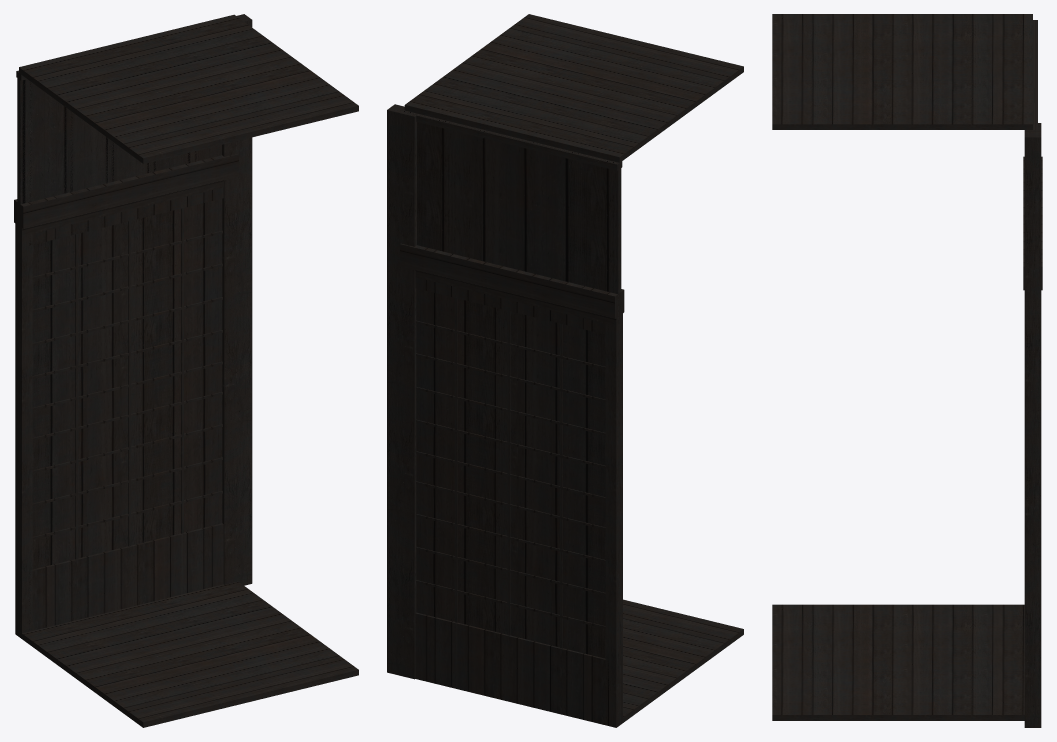
Rendered from module_01.fbx.
The picture shows the model from 3 angles, left to right: view 1: azimuth 30°, elevation 25°; view 2: azimuth 150°, elevation 25°; view 3: azimuth 270°, elevation 25°; orthographic projection. The views are drawn at different scales.
Visible parts, largest first — view 1: syoujido, tennjou, yuka3, kabe, hasira, sikiri, syoujido2; view 2: syoujido2, kabe, tennjou, hasira, syoujido, sikiri, yuka3; view 3: tennjou, yuka3, hasira, kabe.
Boxes of the visible parts, left/top/right/bottom form: syoujido: left=17, top=73, right=223, bottom=638; tennjou: left=19, top=14, right=358, bottom=163; yuka3: left=20, top=581, right=358, bottom=727; kabe: left=14, top=70, right=238, bottom=638; hasira: left=222, top=14, right=252, bottom=585; sikiri: left=17, top=74, right=221, bottom=228; syoujido2: left=15, top=229, right=18, bottom=634; syoujido2: left=415, top=277, right=619, bottom=727; kabe: left=400, top=110, right=624, bottom=726; tennjou: left=404, top=14, right=743, bottom=162; hasira: left=387, top=104, right=416, bottom=679; syoujido: left=417, top=122, right=622, bottom=723; sikiri: left=417, top=122, right=621, bottom=321; yuka3: left=623, top=599, right=743, bottom=722; tennjou: left=772, top=14, right=1032, bottom=129; yuka3: left=772, top=604, right=1024, bottom=720; hasira: left=1024, top=123, right=1041, bottom=727; kabe: left=1023, top=20, right=1042, bottom=290.
Bounding box in the file's own units: 213 × 505 × 208.
